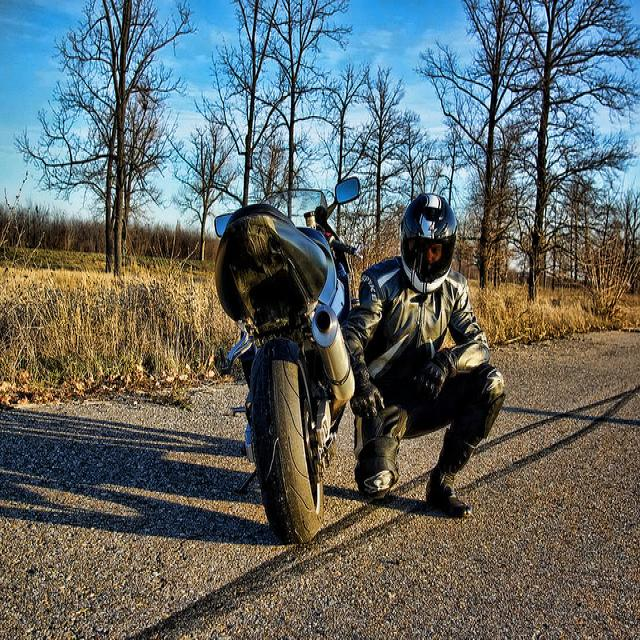motor: (211, 177, 367, 544)
